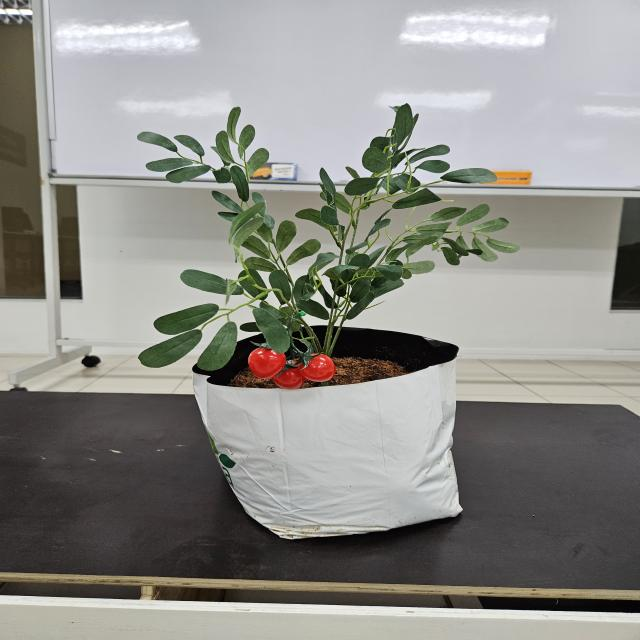Soilbag: (192, 330, 462, 542)
Tomato: (248, 348, 336, 390)
plant: (136, 105, 519, 380)
